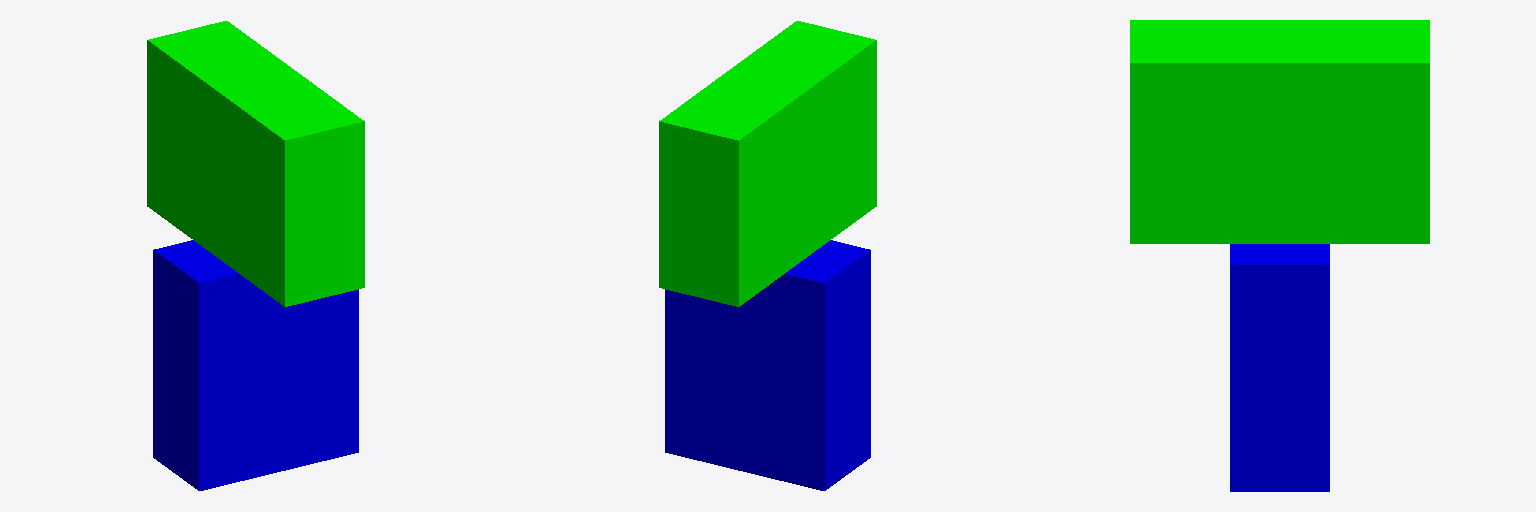
URDF robot description (robot):
<robot name = "robot">
    <link name="root">
        <inertial>
            <origin xyz="0.0 0.0 1.5" rpy="0 0 0"/>
            <mass value="1" />
            <inertia ixx="100" ixy="0" ixz="0" iyy="100" iyz="0" izz="100" />
        </inertial>
        <visual>
            <origin xyz="0.0 0.0 1.5" rpy="0 0 0"/>
            <geometry>
                <box size="0 0 0.0001" />
            </geometry>
            <material name="Green">
                <color rgba="0 1.0 0.0 1.0"/>
            </material>
        </visual>
        <collision>
            <origin xyz="0.0 0.0 1.5" rpy="0 0 0"/>
            <geometry>
                <box size="0 0 0.0001" />
            </geometry>
        </collision>
    </link>
    <joint name="root_000" type="revolute">
       <parent link="root"/>
       <child  link="000"/>
       <origin rpy="0 0 0" xyz="0.0 0.0 1.5" />
     <axis xyz="1 0 0"/>
       <limit effort="0.0" lower="-3.14159" upper="3.14159" velocity="0.0"/>
    </joint>
    <link name="000">
        <inertial>
            <origin xyz="0.0 0.0 -0.2" rpy="0 0 0"/>
            <mass value="1" />
            <inertia ixx="100" ixy="0" ixz="0" iyy="100" iyz="0" izz="100" />
        </inertial>
        <visual>
            <origin xyz="0.0 0.0 -0.2" rpy="0 0 0"/>
            <geometry>
                <box size="0.2 0.6 0.4" />
            </geometry>
            <material name="Green">
                <color rgba="0 1.0 0.0 1.0"/>
            </material>
        </visual>
        <collision>
            <origin xyz="0.0 0.0 -0.2" rpy="0 0 0"/>
            <geometry>
                <box size="0.2 0.6 0.4" />
            </geometry>
        </collision>
    </link>
    <joint name="000_000-100" type="revolute">
       <parent link="000"/>
       <child  link="000-100"/>
       <origin rpy="0 0 0" xyz="0.0 0.0 -0.4" />
     <axis xyz="0 0 1"/>
       <limit effort="0.0" lower="-3.14159" upper="3.14159" velocity="0.0"/>
    </joint>
    <link name="000-100">
        <inertial>
            <origin xyz="0.0 0.0 -0.25" rpy="0 0 0"/>
            <mass value="1" />
            <inertia ixx="100" ixy="0" ixz="0" iyy="100" iyz="0" izz="100" />
        </inertial>
        <visual>
            <origin xyz="0.0 0.0 -0.25" rpy="0 0 0"/>
            <geometry>
                <box size="0.4 0.2 0.5" />
            </geometry>
            <material name="Blue">
                <color rgba="0 0.0 1.0 1.0"/>
            </material>
        </visual>
        <collision>
            <origin xyz="0.0 0.0 -0.25" rpy="0 0 0"/>
            <geometry>
                <box size="0.4 0.2 0.5" />
            </geometry>
        </collision>
    </link>
</robot>

--- Render facts (derived) ---
3 views of the same robot in one strip: view 1: azimuth 30°, elevation 25°; view 2: azimuth 150°, elevation 25°; view 3: azimuth 270°, elevation 25° (orthographic).
Model robot with 3 links and 2 joints (2 revolute), rooted at root, posed all joints at 0.
Visible links, largest first — view 1: 000, 000-100; view 2: 000, 000-100; view 3: 000, 000-100.
Link boxes in pixels (<box>): 000: <box>147,21,364,306</box>; 000-100: <box>153,240,358,490</box>; 000: <box>659,21,876,306</box>; 000-100: <box>665,240,870,490</box>; 000: <box>1130,20,1429,243</box>; 000-100: <box>1230,244,1329,491</box>.
Size in the robot's own frame: 0.4 by 0.6 by 0.9 metres.
Geometry: primitives only (box / cylinder / sphere), no mesh files.